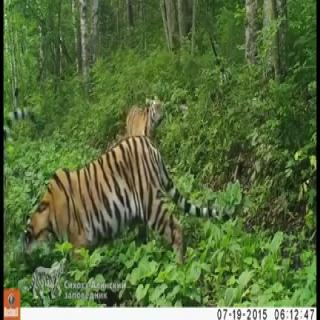Tiger: (23, 127, 194, 285), (120, 88, 168, 145)
